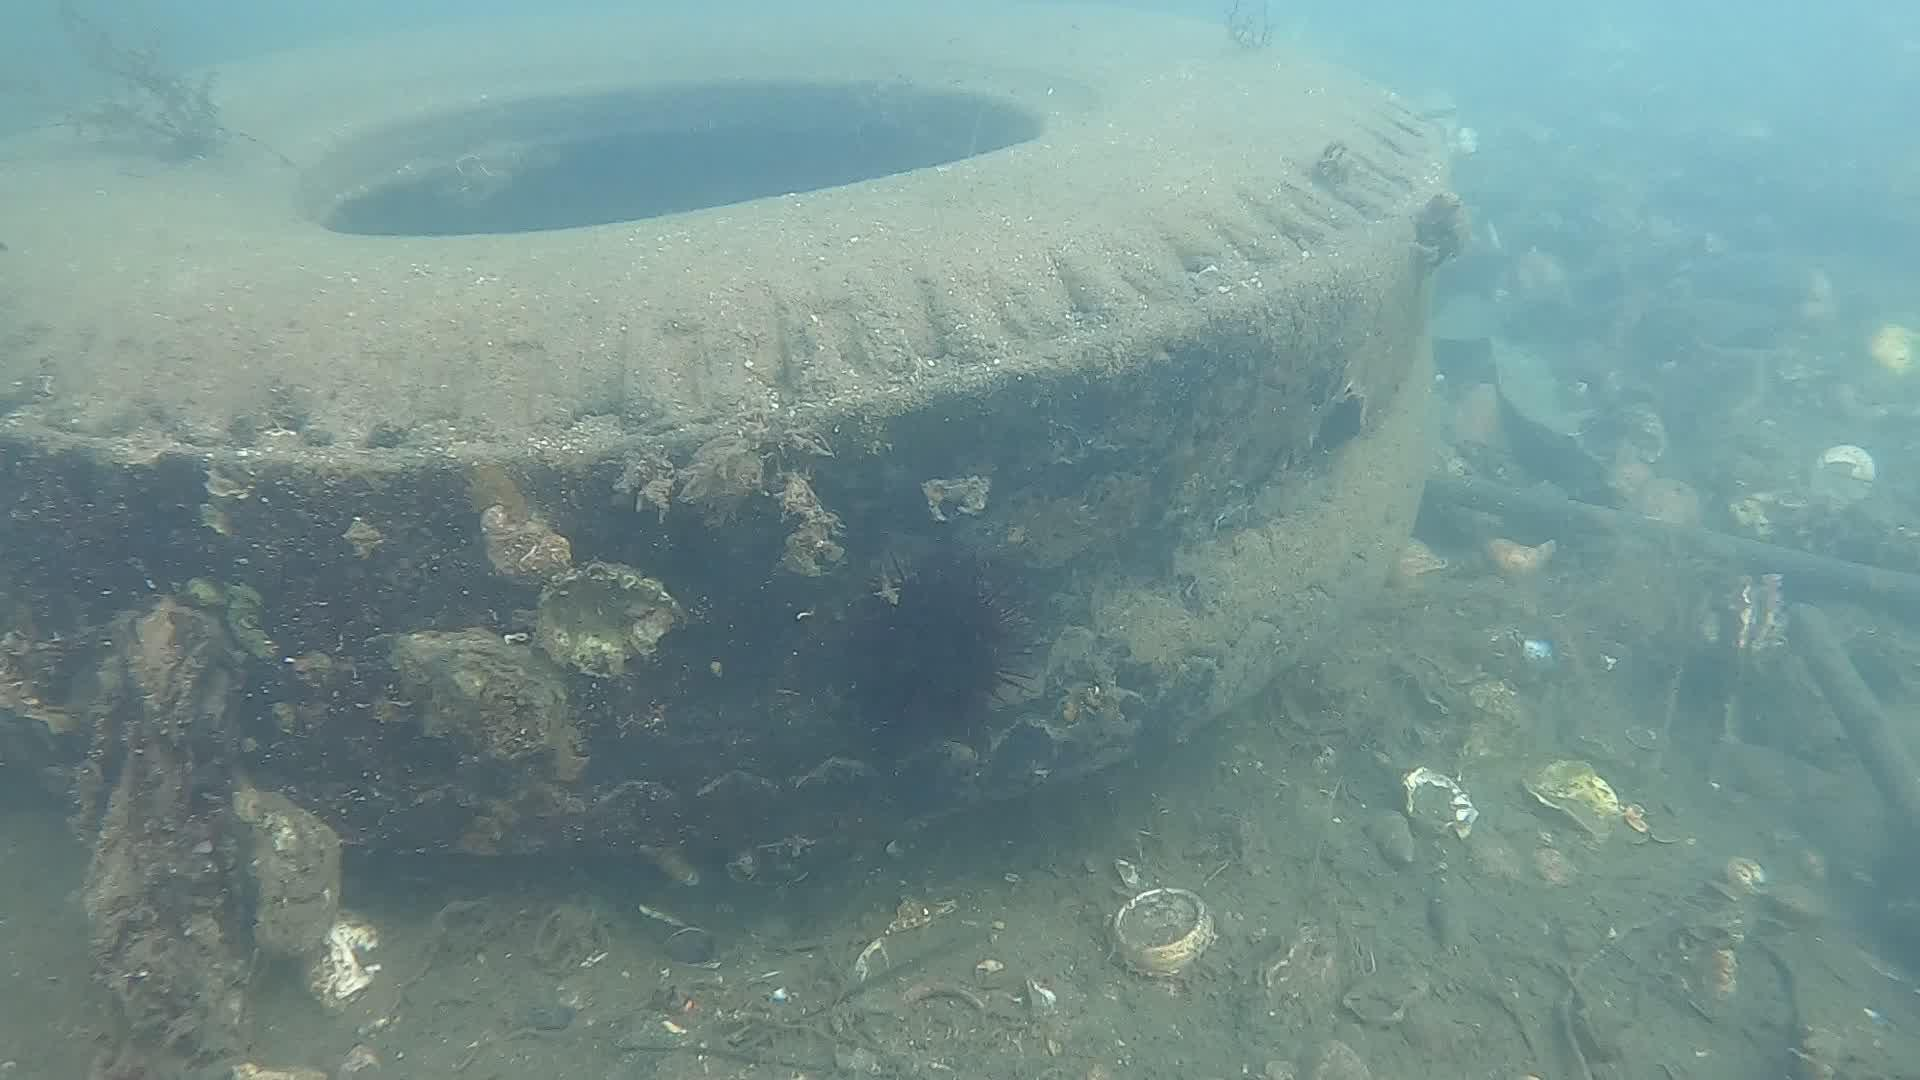tire: (7, 0, 1453, 862)
